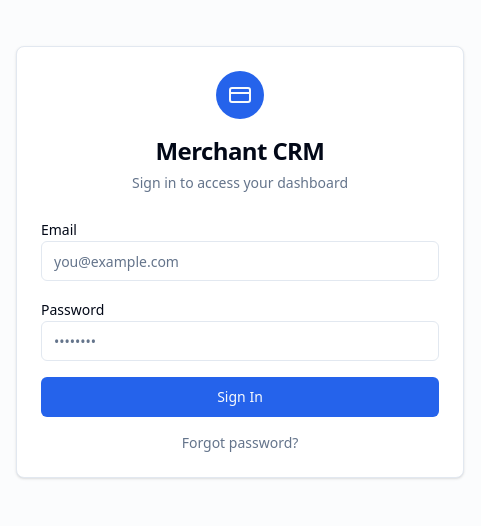
Login › should display generic error for non-Error failures
Type "test@example.com" into the field labelled "Email" at (240, 261), box top-left (41, 241), bottom-right (439, 281)
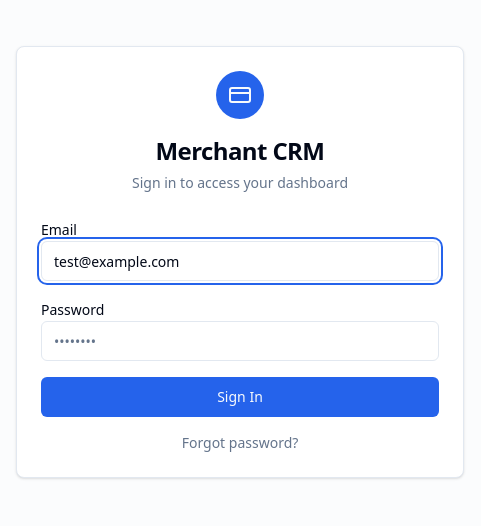
Type "wrongpassword" into the password field labelled "Password" at (240, 341), box top-left (41, 321), bottom-right (439, 361)
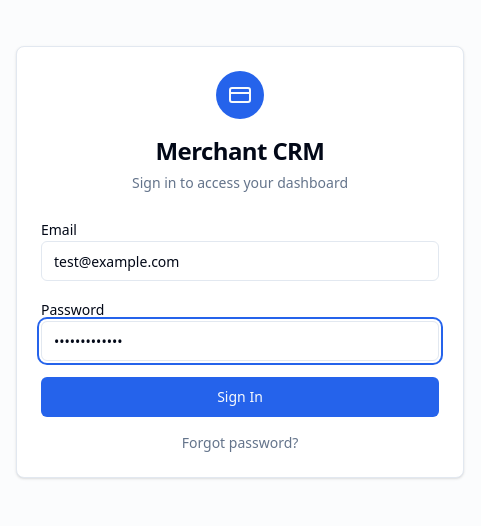
Click the button "Sign In" at (240, 397), box top-left (41, 377), bottom-right (439, 417)
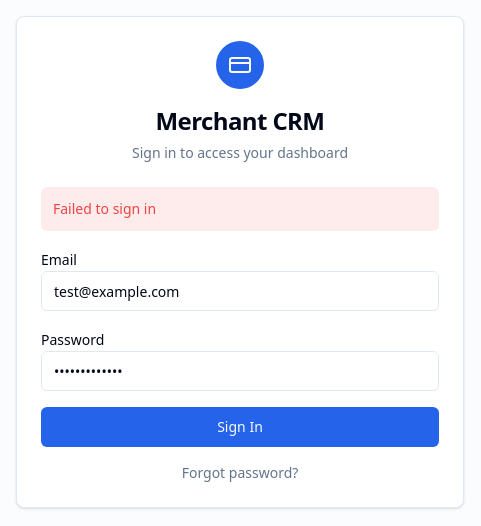
Check: the text "Failed to sign in" is shown, box top-left (41, 187), bottom-right (439, 231)
